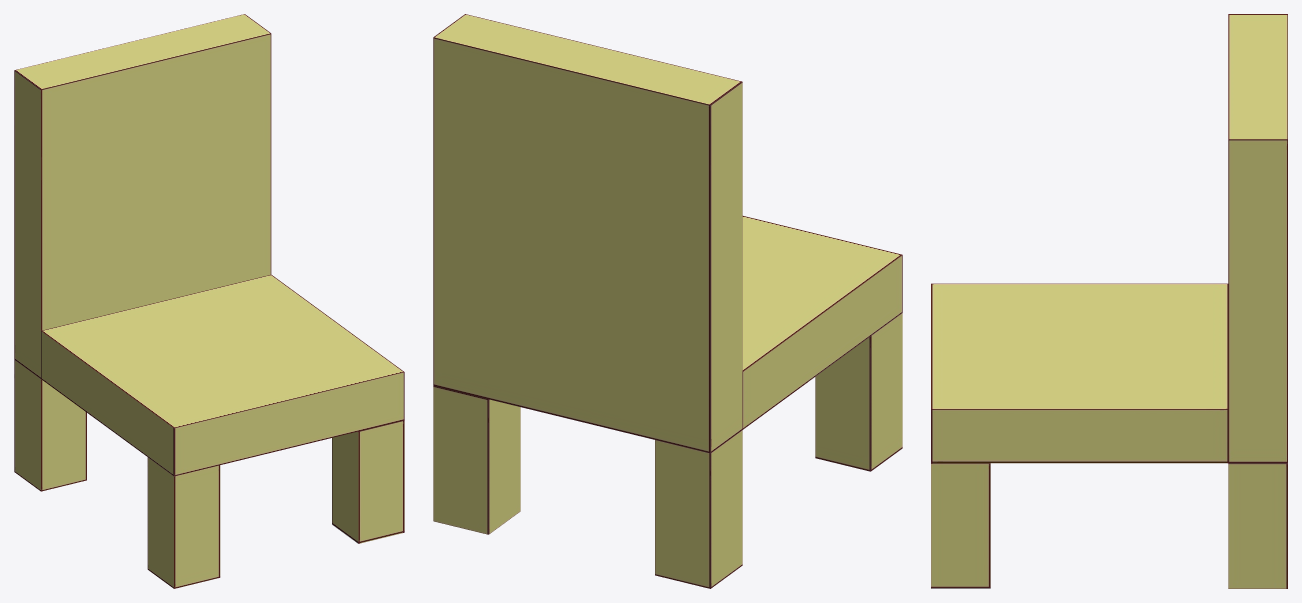
Rendered from Dream(2)_chair.fbx.
3 renders of one model, left to right at view 1: azimuth 30°, elevation 25°; view 2: azimuth 150°, elevation 25°; view 3: azimuth 270°, elevation 25°, orthographic. The views are drawn at different scales.
Visible parts, largest first — view 1: Box002; view 2: Box002; view 3: Box002.
Part boxes in pixels (x1=…): Box002: x1=14, y1=14, x2=404, y2=588; Box002: x1=433, y1=14, x2=902, y2=588; Box002: x1=931, y1=14, x2=1287, y2=588.
Size of the model in its own units: 30 by 50 by 36.
Materials: 1 (1 with a texture image).
